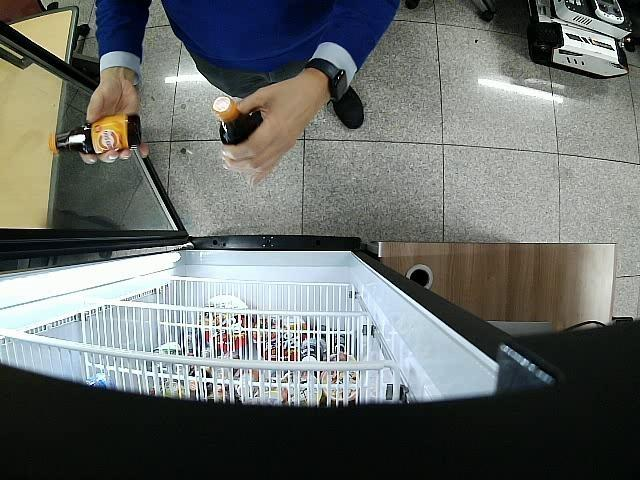17_vita500: (50, 113, 142, 158), (214, 94, 258, 145)
